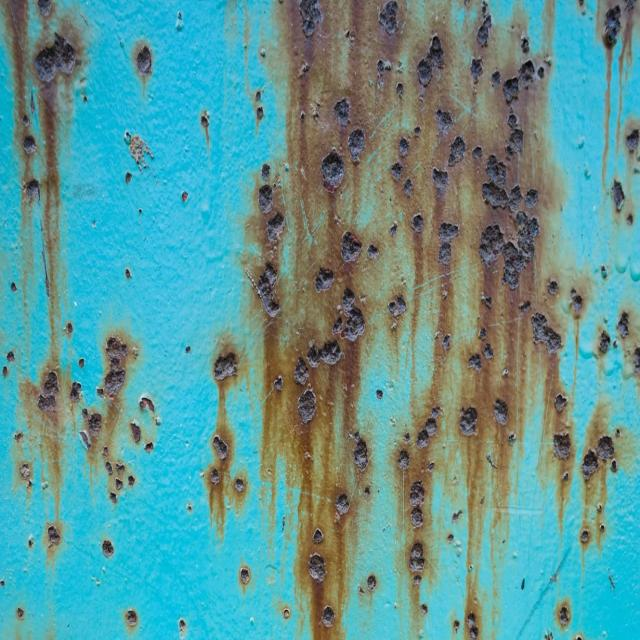Pitting Corrosion: (201, 0, 634, 639), (11, 330, 161, 576), (595, 0, 640, 234), (596, 288, 640, 387), (136, 46, 152, 76), (125, 609, 138, 628), (101, 540, 114, 557)
